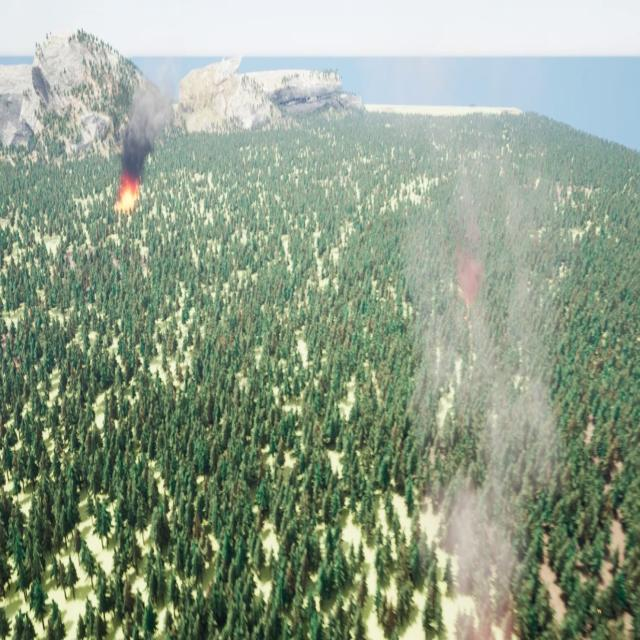fire: (111, 178, 138, 210)
smoke: (379, 101, 571, 639), (121, 62, 182, 173)
